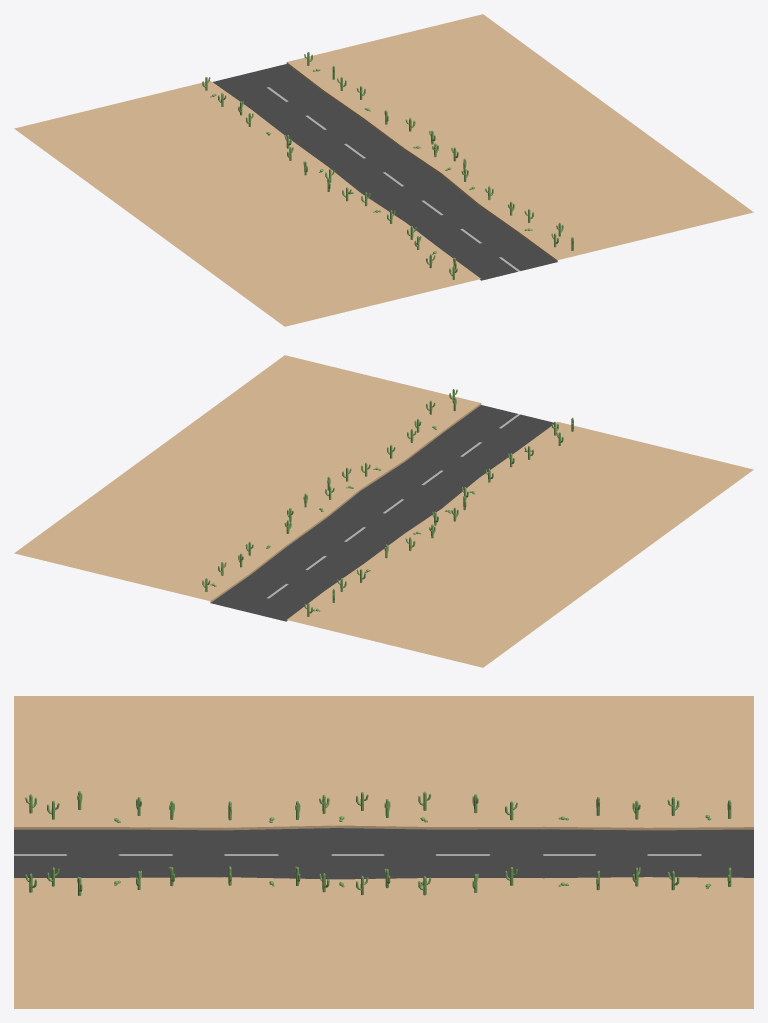
File: level.dae
3 renders of one model, top to bottom at view 1: azimuth 30°, elevation 25°; view 2: azimuth 150°, elevation 25°; view 3: azimuth 270°, elevation 25°, orthographic. The views are drawn at different scales.
Visible parts, largest first — view 1: terrain, cactus; view 2: terrain, cactus; view 3: terrain, cactus.
Boxes of the visible parts, box(x1,y1,x2,y2) form: terrain: box(14, 14, 753, 326); cactus: box(202, 52, 573, 279); terrain: box(14, 355, 753, 667); cactus: box(202, 389, 573, 616); terrain: box(14, 696, 753, 1008); cactus: box(25, 791, 731, 895).
Size of the model in its own units: 80 by 80 by 2.49.
Materials: 2 (1 with a texture image).
